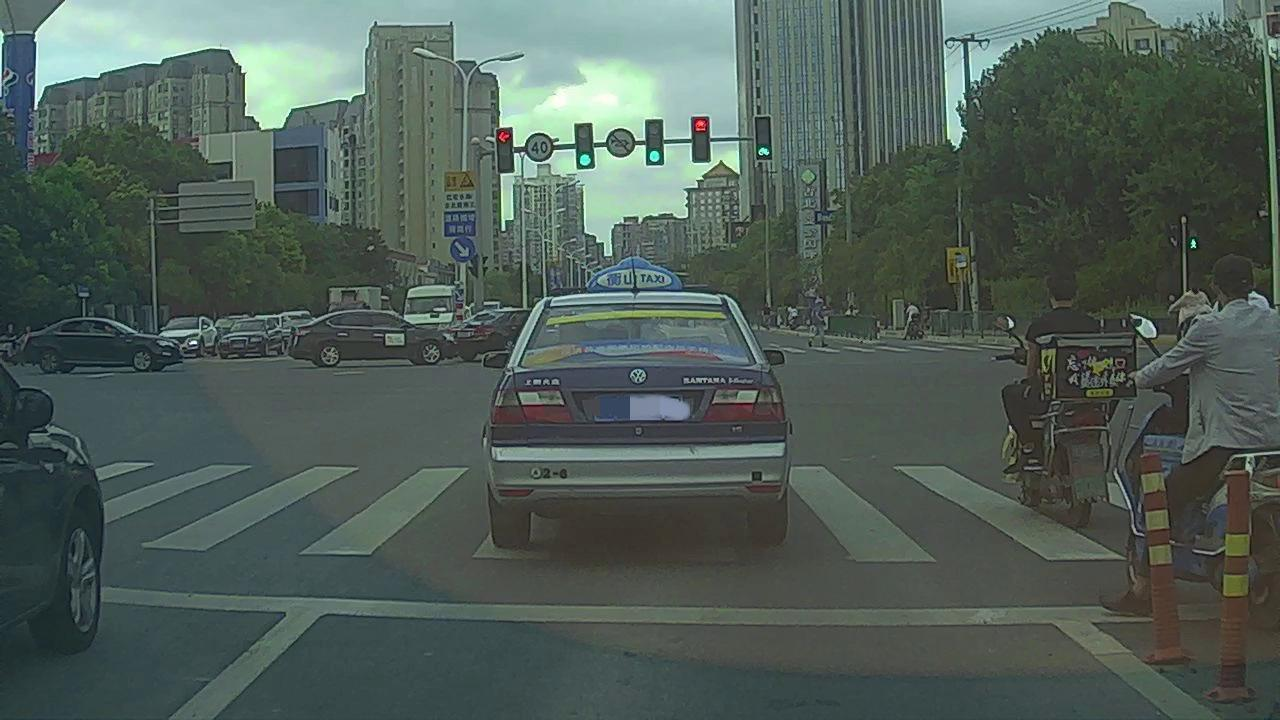traffic_light: (691, 116, 711, 163), (645, 119, 665, 164), (575, 123, 594, 169), (755, 116, 772, 161), (496, 129, 512, 171)
